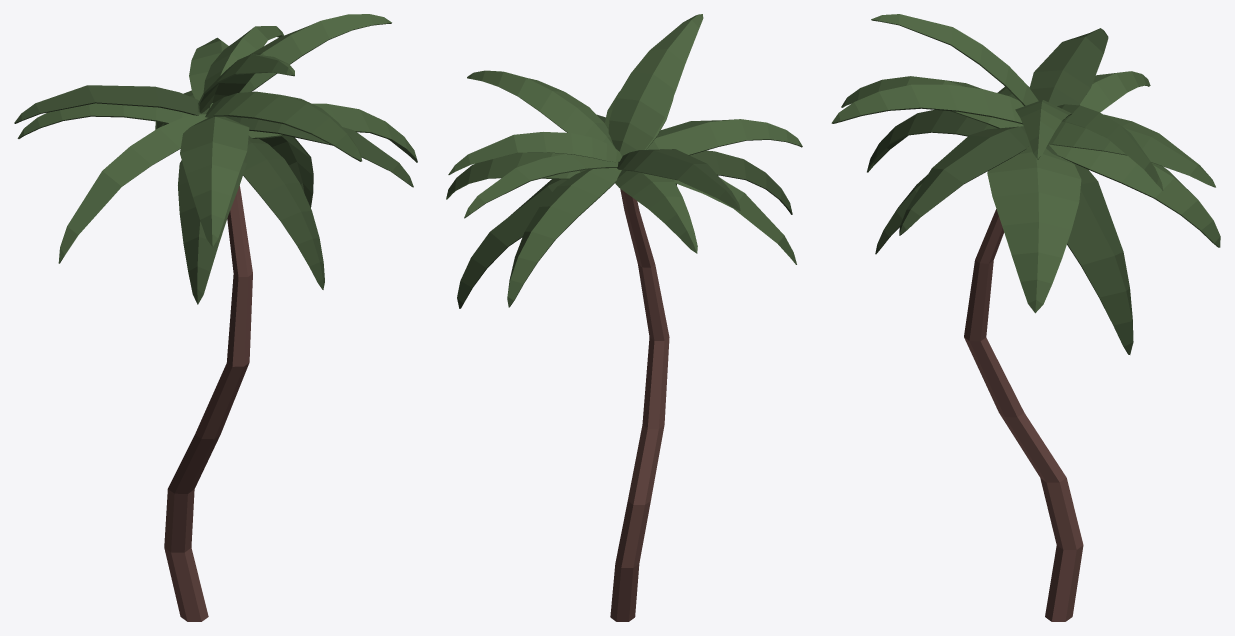
Rendered from PalmTree_1.glb.
3 views of the same model, side by side, from view 1: azimuth 30°, elevation 25°; view 2: azimuth 150°, elevation 25°; view 3: azimuth 270°, elevation 25° (orthographic). The views are drawn at different scales.
Parts seen in each view (by area): view 1: PalmTree_1_Cylinder.041; view 2: PalmTree_1_Cylinder.041; view 3: PalmTree_1_Cylinder.041.
Boxes of the visible parts, x1,y1,x2,y2 form: PalmTree_1_Cylinder.041: (14,14,417,621); PalmTree_1_Cylinder.041: (446,14,802,621); PalmTree_1_Cylinder.041: (831,14,1220,621).
Bounding box in the file's own units: 2.88 × 4.47 × 2.61.
